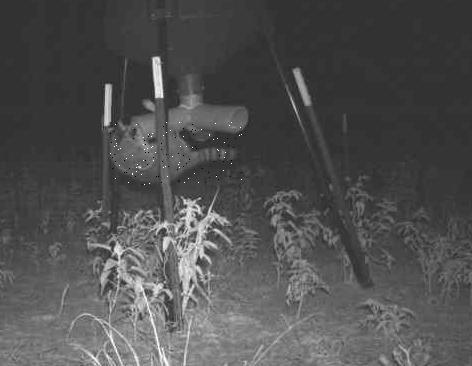Raccoon: (109, 123, 243, 188)
